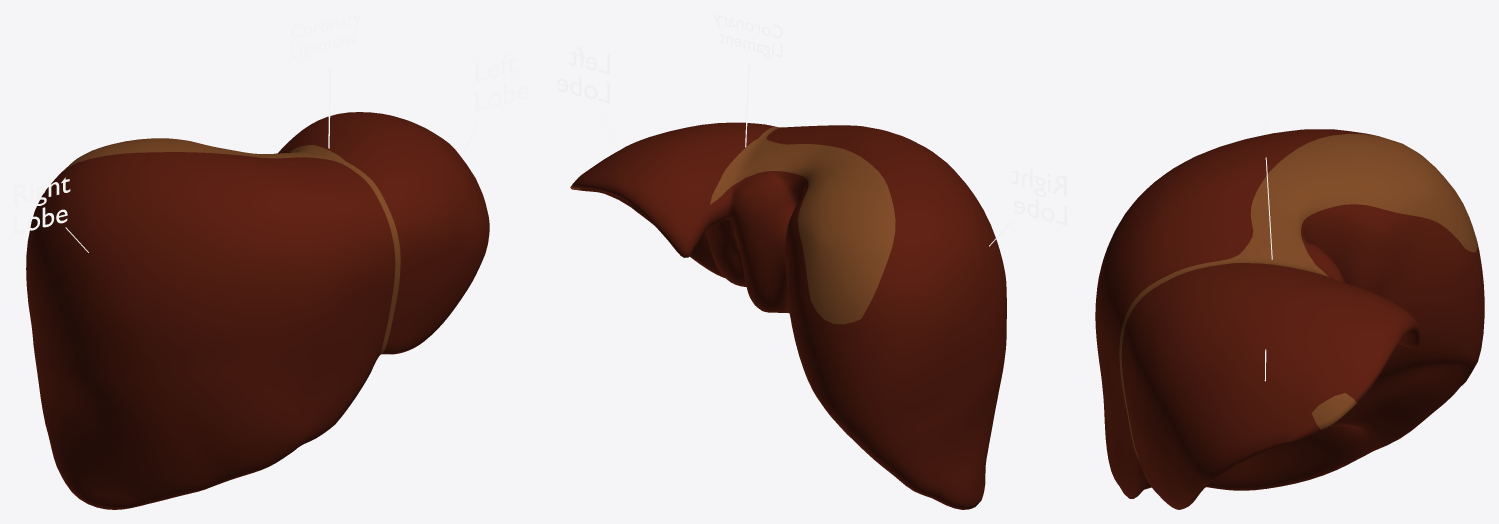
File: Liver13.gltf
3 views of the same model, side by side, from view 1: azimuth 30°, elevation 25°; view 2: azimuth 150°, elevation 25°; view 3: azimuth 270°, elevation 25° (orthographic). The views are drawn at different scales.
Visible parts, largest first — view 1: Liver, Text, Text.001, Text.002; view 2: Liver, Text, Text.001, Text.002; view 3: Liver.
Boxes of the visible parts, x1=… form: Liver: x1=26, y1=112, x2=489, y2=509; Text: x1=14, y1=176, x2=70, y2=234; Text.001: x1=475, y1=54, x2=528, y2=111; Text.002: x1=291, y1=14, x2=361, y2=58; Liver: x1=570, y1=122, x2=1006, y2=509; Text: x1=1011, y1=168, x2=1066, y2=225; Text.001: x1=557, y1=46, x2=609, y2=103; Text.002: x1=713, y1=14, x2=782, y2=58; Liver: x1=1095, y1=129, x2=1484, y2=509.
Bounding box in the file's own units: 0.3403 × 0.2728 × 0.1821.
